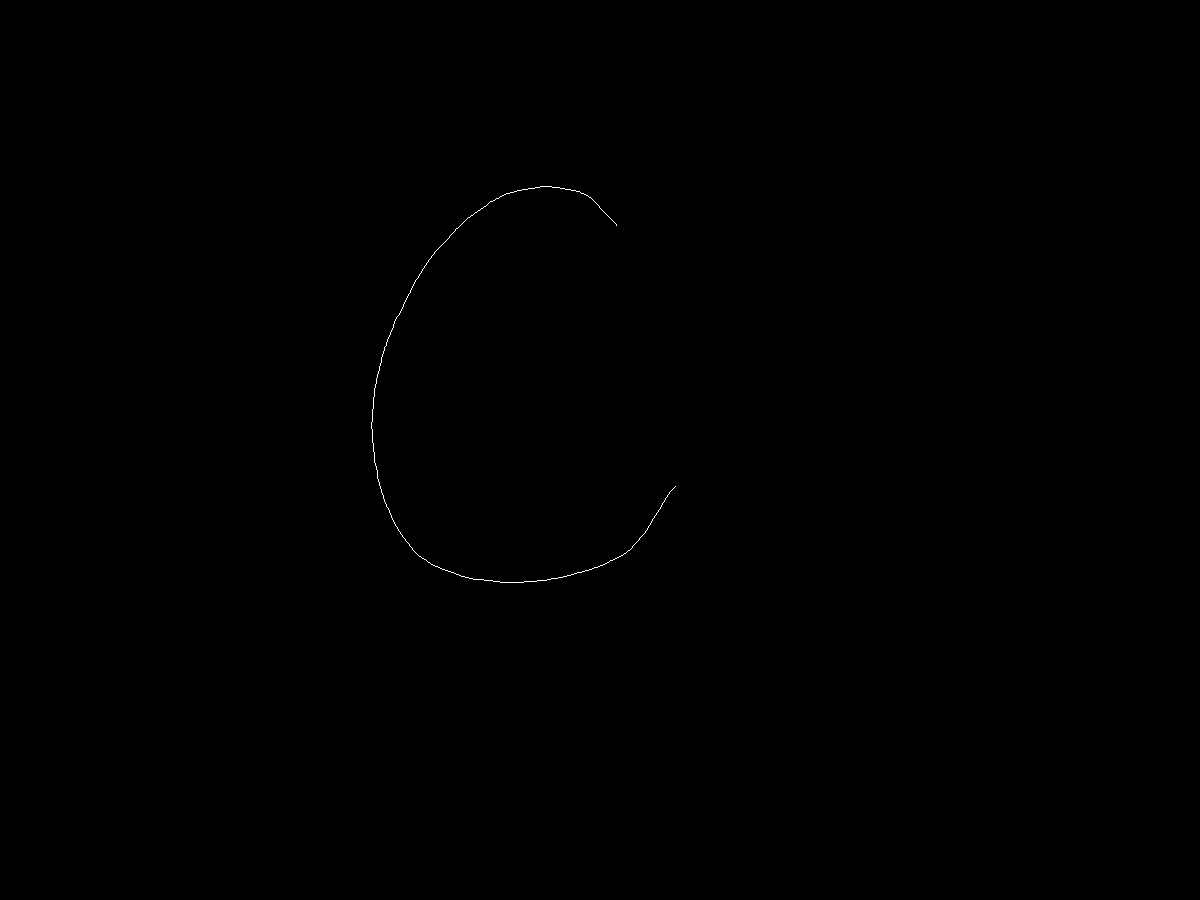dian1: (604, 213, 625, 234)
dian2: (661, 477, 683, 495)
